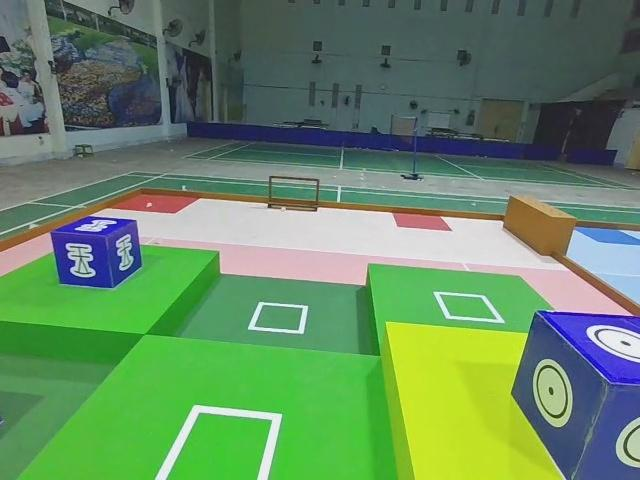R2 Real Blue: (509, 311, 639, 480), (48, 218, 141, 293)
